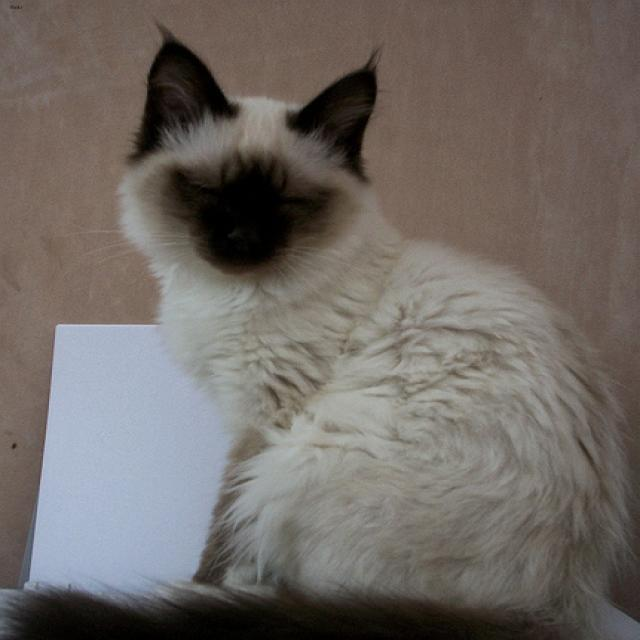Birman: (110, 21, 392, 295)
